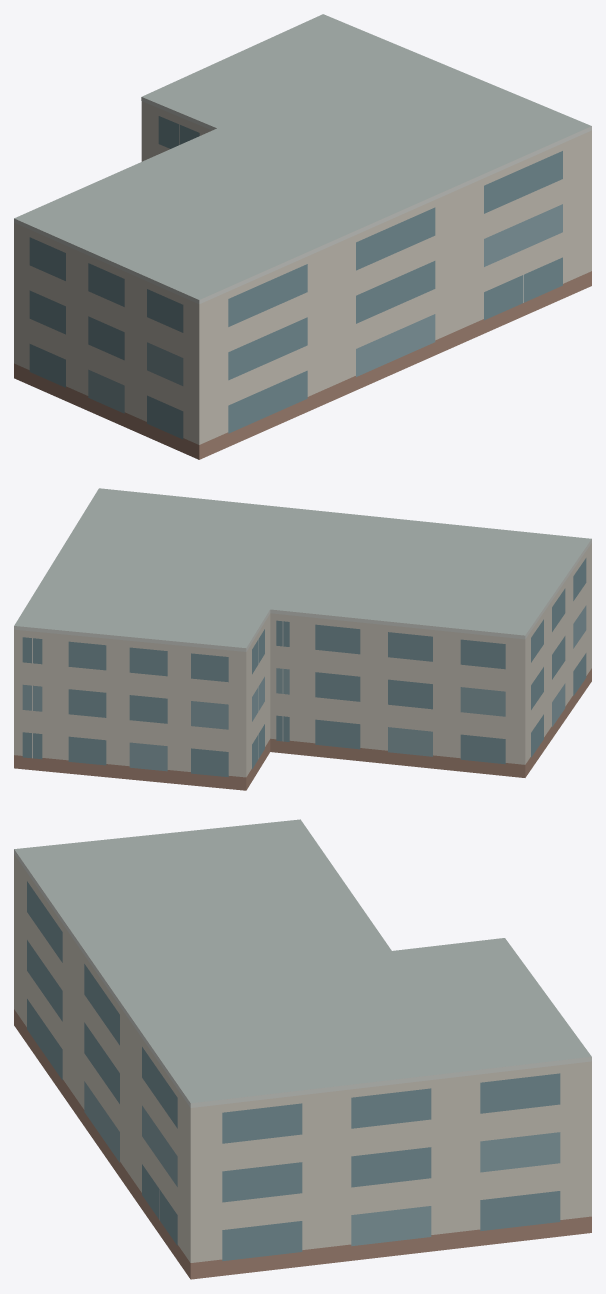
The model's file is survey-upis-32659566.glb.
3 views of the same model, one above another, from view 1: azimuth 30°, elevation 25°; view 2: azimuth 150°, elevation 25°; view 3: azimuth 270°, elevation 25° (orthographic). The views are drawn at different scales.
Visible parts, largest first — view 1: survey-upis-32659566.tmp; view 2: survey-upis-32659566.tmp; view 3: survey-upis-32659566.tmp.
Boxes of the visible parts, <box> form: survey-upis-32659566.tmp: <box>14,14,591,459</box>; survey-upis-32659566.tmp: <box>14,488,591,790</box>; survey-upis-32659566.tmp: <box>14,819,591,1279</box>.
Size of the model in its own units: 31.64 by 9.15 by 27.21.
